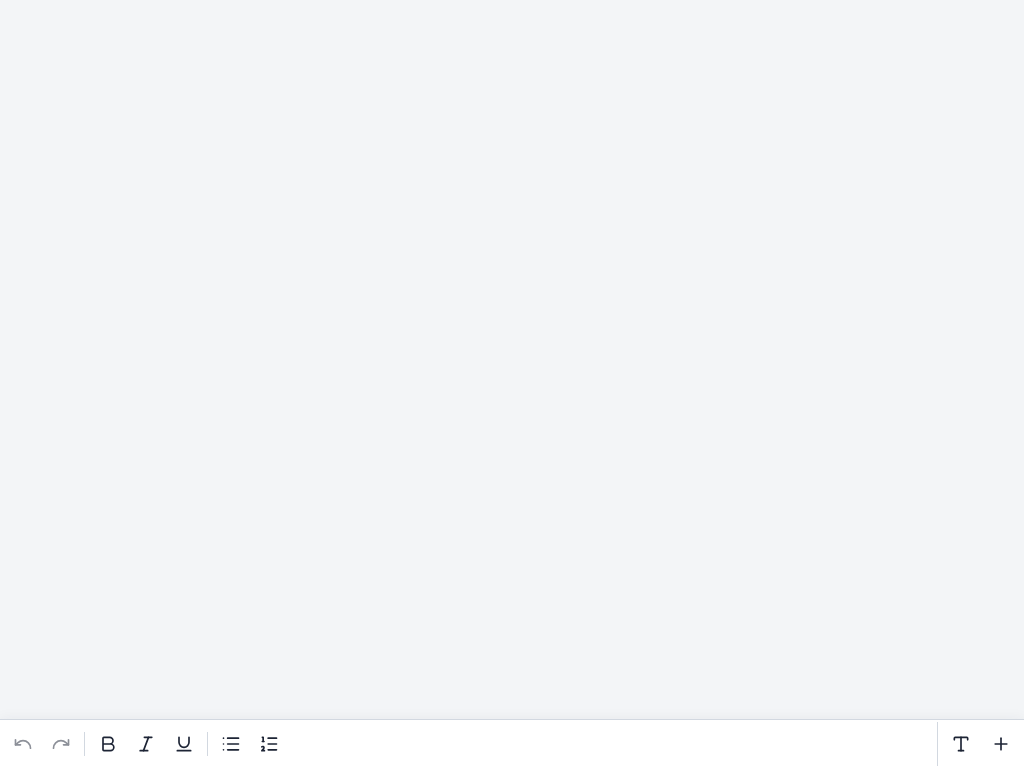
Test: MobileToolbar › leaves Escape to an open picker before closing the panel
Later steps or results of the test are not shown.
Click the button named "Text formatting" at [961, 744], box [942,722,980,766]
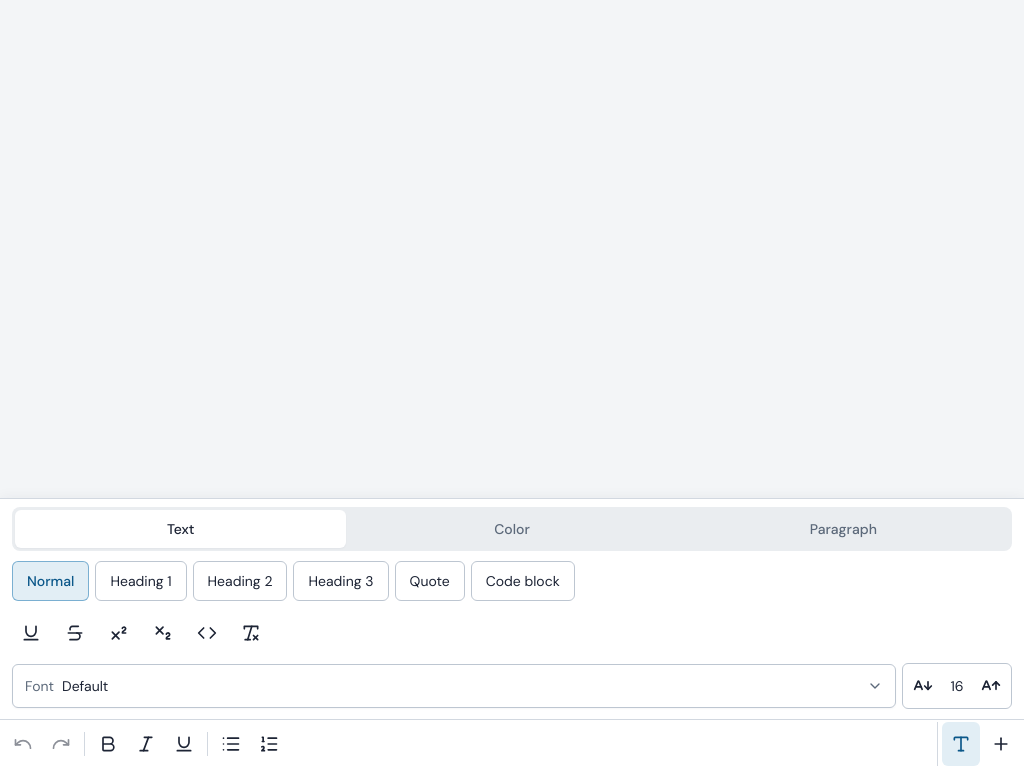
Click the button with aria-label "Select font" at [85, 686], box [12,664,896,708]
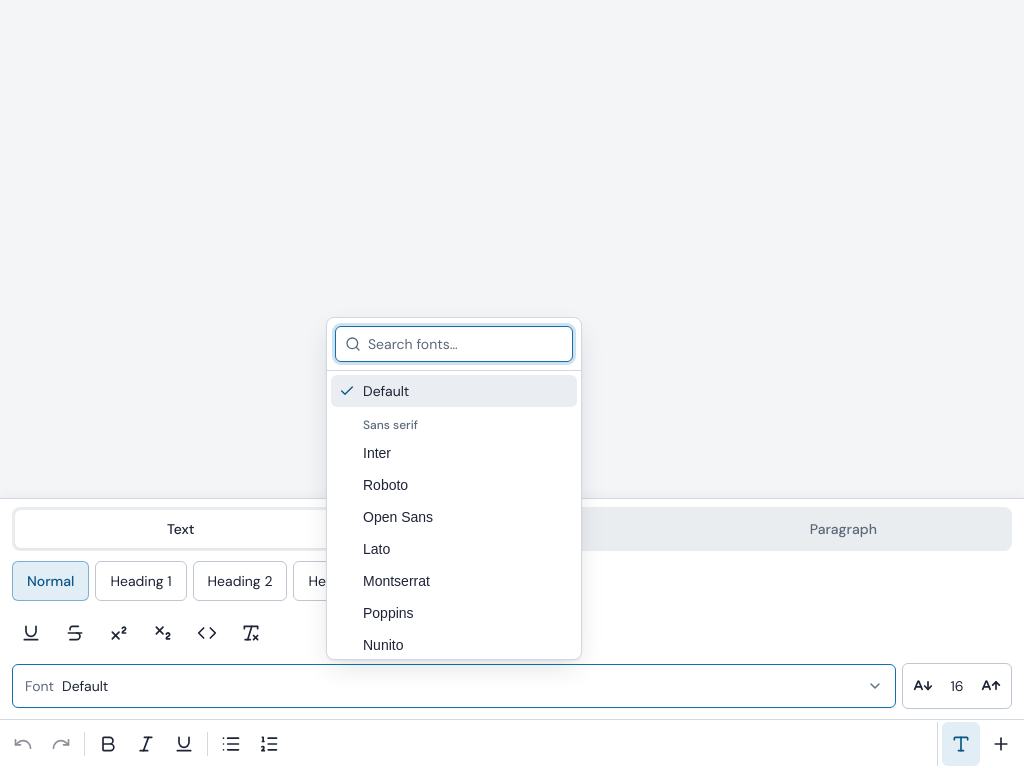
Expected: the dialog is shown, [326,317,582,660]
Press Escape
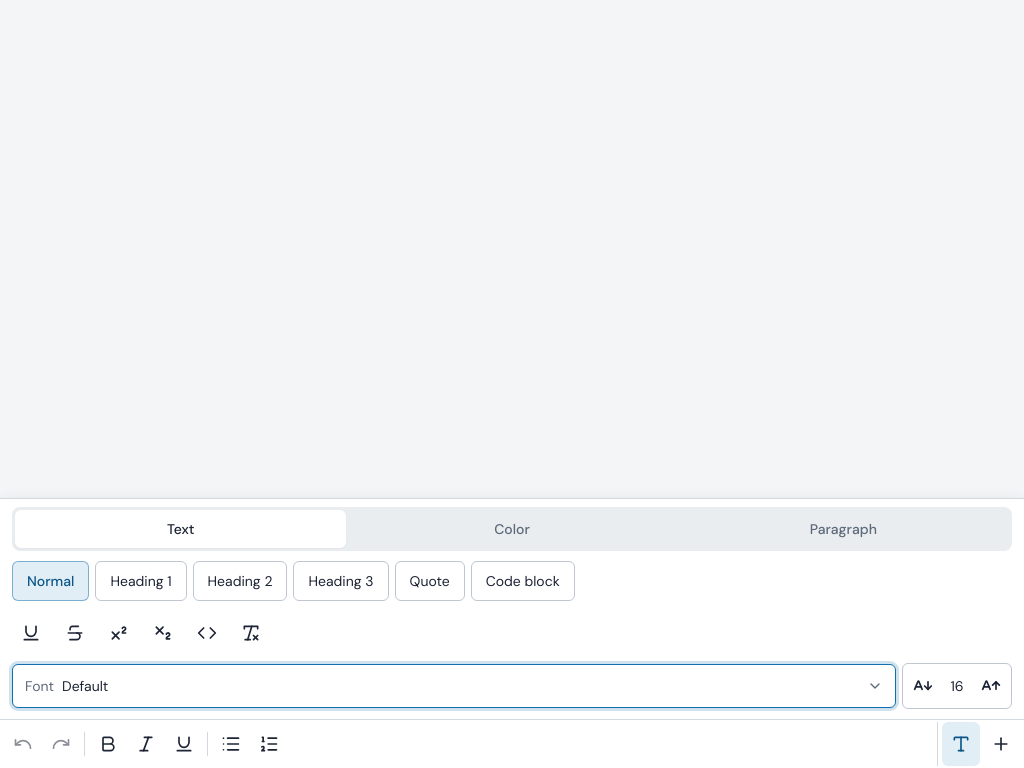
Expected: the element named "Formatting options" is shown, [0,499,1023,720]
Expected: the dialog is gone
